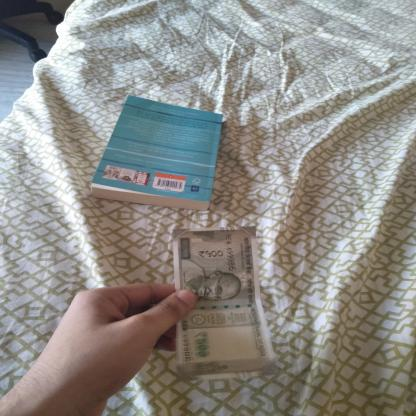New500Front: (171, 228, 265, 369)
